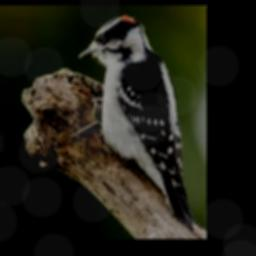Woodpecker: (69, 14, 201, 230)
